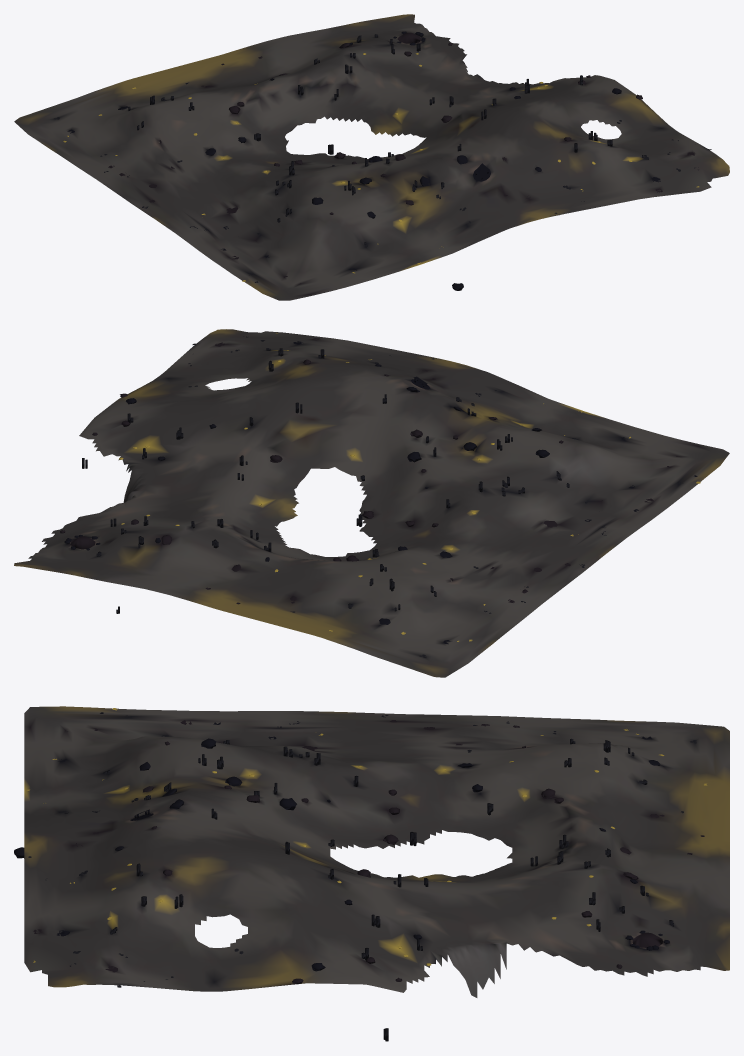
The model's file is ash_isl_obsidian_arch_lod1.glb.
The picture shows the model from 3 angles, top to bottom: view 1: azimuth 30°, elevation 25°; view 2: azimuth 150°, elevation 25°; view 3: azimuth 270°, elevation 25°; orthographic projection. The views are drawn at different scales.
Visible parts, largest first — view 1: ash_isl_obsidian_arch_lod1; view 2: ash_isl_obsidian_arch_lod1; view 3: ash_isl_obsidian_arch_lod1.
Boxes of the visible parts, box(x1,y1,x2,y2) form: ash_isl_obsidian_arch_lod1: box(14, 14, 729, 300); ash_isl_obsidian_arch_lod1: box(14, 329, 729, 677); ash_isl_obsidian_arch_lod1: box(14, 706, 729, 1041).
Bounding box in the file's own units: 242 × 36.81 × 244.
